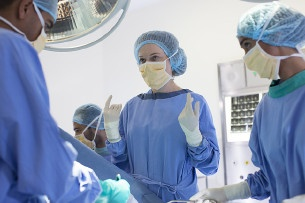Mask: (136, 49, 175, 88)
